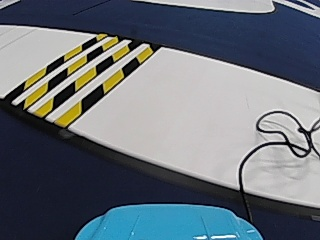bump: (18, 42, 115, 119)
